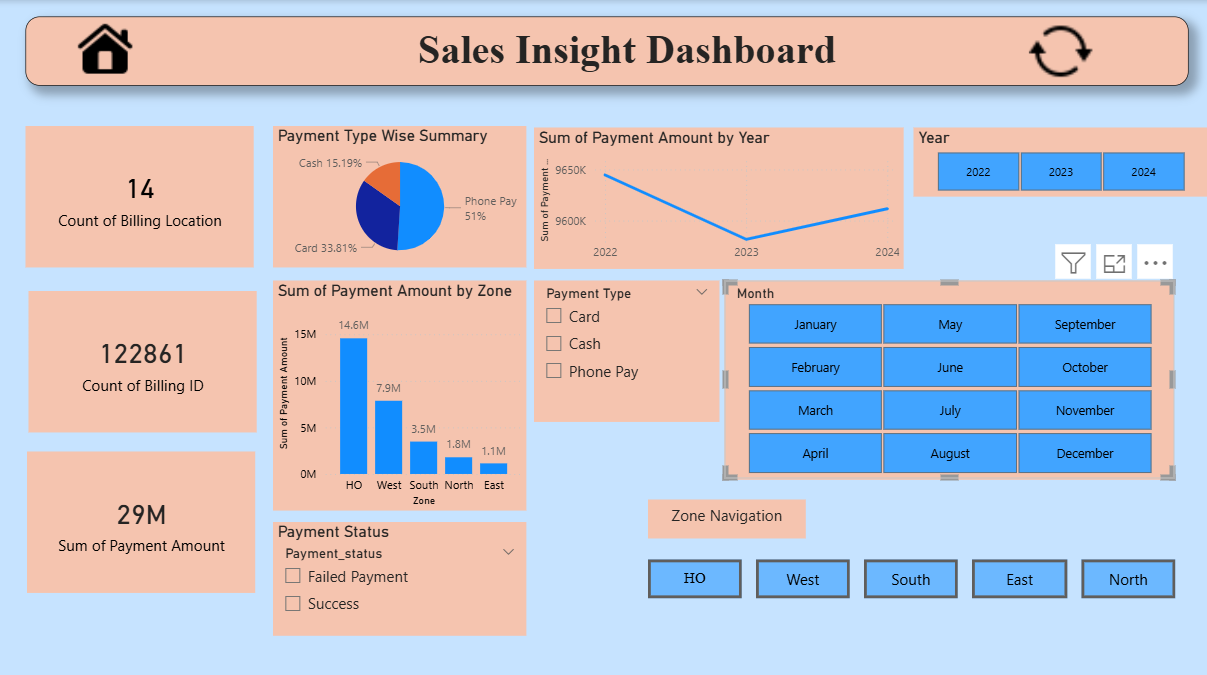

The page's visual inventory and layout, read from the dashboard file:
{"tool":"powerbi","page":{"name":"Main Sheet","canvas":[1280,720],"ordinal":0},"visuals":[{"type":"textbox","box":[26.6,17.2,1233.2,73.5],"z":0},{"type":"card","fields":{"Values":["Count(Sales Data.Billing Location)"]},"box":[26.6,132.9,242.3,150],"z":1000},{"type":"card","fields":{"Values":["Count(Sales Data.Billing ID)"]},"box":[29.7,307.9,242.3,150],"z":2000},{"type":"card","fields":{"Values":["Sum(Sales Data.Payment Amount)"]},"box":[28.1,478.3,242.3,150],"z":3000},{"type":"clusteredColumnChart","fields":{"Category":["Location Data.Zone"],"Y":["Sum(Sales Data.Payment Amount)"]},"box":[289.2,297,268.8,243.8],"z":4000},{"type":"lineChart","fields":{"Y":["Sum(Sales Data.Payment Amount)"],"Category":["Sales Data.Bill Timing.Variation.Date Hierarchy.Year"]},"box":[565.8,134.4,392.3,150],"z":5000},{"type":"pieChart","title":"Payment Type Wise Summary","fields":{"Category":["Sales Data.Payment Type"],"Y":["Sum(Sales Data.Payment Amount)"]},"box":[289.2,132.9,268.8,150],"z":6000},{"type":"slicer","fields":{"Values":["Sales Data.Payment Type"]},"box":[565.8,297,196.9,150],"z":7000},{"type":"slicer","title":"Payment Status","fields":{"Values":["Sales Data.Payment_status"]},"box":[289.2,553.3,268.8,120.4],"z":8000},{"type":"slicer","title":"Year","fields":{"Values":["Sales Data.Bill Timing.Variation.Date Hierarchy.Year"]},"box":[969.1,134.4,311,73.5],"z":9000},{"type":"slicer","fields":{"Values":["Sales Data.Bill Timing.Variation.Date Hierarchy.Month"]},"box":[769,297,476.7,211],"z":10000},{"type":"actionButton","box":[686.9,593.7,99.5,41.1],"z":11000},{"type":"actionButton","box":[801.3,593.7,99.5,41.1],"z":12000},{"type":"actionButton","box":[915.8,593.7,99.5,41.1],"z":13000},{"type":"actionButton","box":[1030.3,593.7,101.1,41.1],"z":14000},{"type":"actionButton","box":[1146.3,593.7,99.5,41.1],"z":15000},{"type":"image","box":[73.5,3.1,76.6,101.6],"z":16000},{"type":"image","box":[1086.3,20.3,76.6,67.2],"z":17000},{"type":"textbox","box":[686.9,529,167.4,41.1],"z":18000}]}

Visuals, with their boxes in screenshot pixels (x1, y1, x2, y2), scaled from the page's 1280x720 canvas onto the 1207x675 screenshot:
textbox: x1=25, y1=16, x2=1188, y2=85
card - Count(Sales Data.Billing Location): x1=25, y1=125, x2=254, y2=265
card - Count(Sales Data.Billing ID): x1=28, y1=289, x2=256, y2=429
card - Sum(Sales Data.Payment Amount): x1=26, y1=448, x2=255, y2=589
clusteredColumnChart - Location Data.Zone x Sum(Sales Data.Payment Amount): x1=273, y1=278, x2=526, y2=507
lineChart - Sum(Sales Data.Payment Amount) x Sales Data.Bill Timing.Variation.Date Hierarchy.Year: x1=534, y1=126, x2=903, y2=267
"Payment Type Wise Summary" pieChart: x1=273, y1=125, x2=526, y2=265
slicer - Sales Data.Payment Type: x1=534, y1=278, x2=719, y2=419
"Payment Status" slicer: x1=273, y1=519, x2=526, y2=632
"Year" slicer: x1=914, y1=126, x2=1206, y2=195
slicer - Sales Data.Bill Timing.Variation.Date Hierarchy.Month: x1=725, y1=278, x2=1175, y2=476
actionButton: x1=648, y1=557, x2=742, y2=595
actionButton: x1=756, y1=557, x2=849, y2=595
actionButton: x1=864, y1=557, x2=957, y2=595
actionButton: x1=972, y1=557, x2=1067, y2=595
actionButton: x1=1081, y1=557, x2=1175, y2=595
image: x1=69, y1=3, x2=142, y2=98
image: x1=1024, y1=19, x2=1097, y2=82
textbox: x1=648, y1=496, x2=806, y2=534
